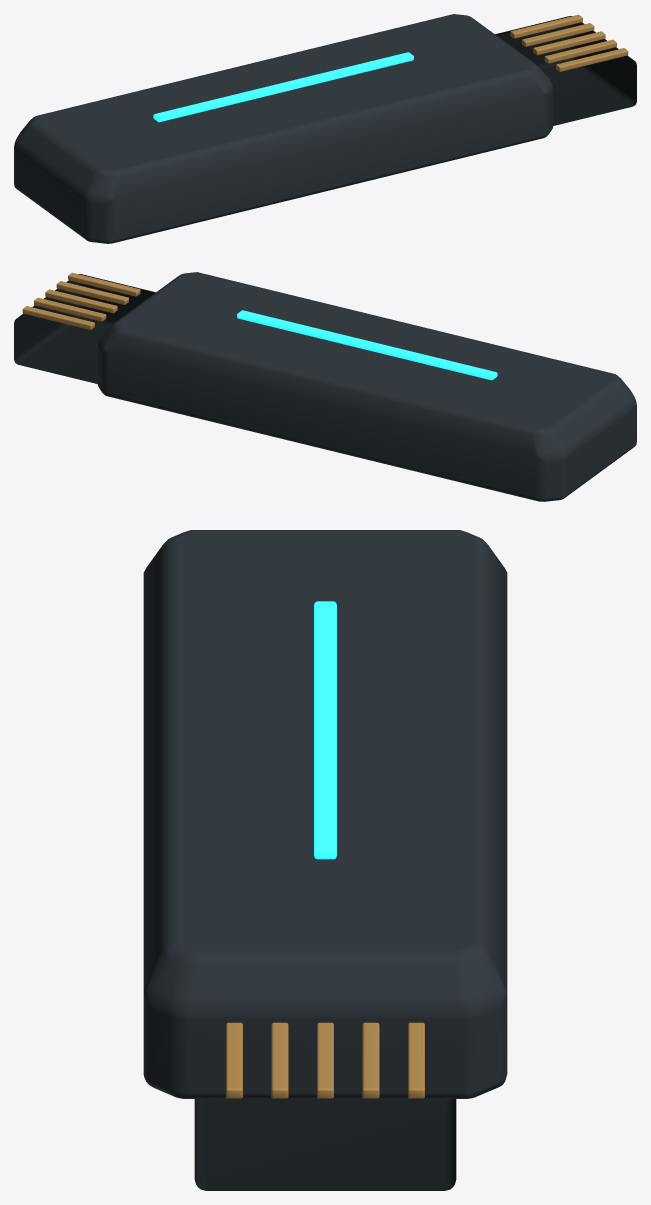
File: ZH_PROP_LAB_DataCartridge.fbx
The picture shows the model from 3 angles, top to bottom: view 1: azimuth 30°, elevation 25°; view 2: azimuth 150°, elevation 25°; view 3: azimuth 270°, elevation 25°; orthographic projection. The views are drawn at different scales.
Visible parts, largest first — view 1: Data | casing.001, Data | connector.001, Data | status.001, Data | contact.007, Data | contact.009, Data | contact.005, Data | contact.008, Data | contact.006; view 2: Data | casing.001, Data | connector.001, Data | status.001, Data | contact.007, Data | contact.005, Data | contact.008, Data | contact.006, Data | contact.009; view 3: Data | casing.001, Data | connector.001, Data | status.001, Data | contact.006, Data | contact.008, Data | contact.005, Data | contact.007, Data | contact.009.
Part boxes in pixels (<box>): Data | casing.001: <box>14,14,553,243</box>; Data | connector.001: <box>495,16,636,125</box>; Data | status.001: <box>153,52,413,122</box>; Data | contact.007: <box>533,31,605,55</box>; Data | contact.009: <box>510,14,582,38</box>; Data | contact.005: <box>556,48,628,71</box>; Data | contact.008: <box>522,23,594,46</box>; Data | contact.006: <box>544,39,616,63</box>; Data | casing.001: <box>97,272,636,501</box>; Data | connector.001: <box>14,274,155,383</box>; Data | status.001: <box>237,310,497,380</box>; Data | contact.007: <box>45,289,117,313</box>; Data | contact.005: <box>68,272,140,296</box>; Data | contact.008: <box>34,297,106,321</box>; Data | contact.006: <box>56,281,128,304</box>; Data | contact.009: <box>22,306,94,329</box>; Data | casing.001: <box>143,530,507,1098</box>; Data | connector.001: <box>194,1097,456,1190</box>; Data | status.001: <box>314,601,336,859</box>; Data | contact.006: <box>271,1022,288,1098</box>; Data | contact.008: <box>362,1022,379,1098</box>; Data | contact.005: <box>226,1022,242,1098</box>; Data | contact.007: <box>317,1022,333,1098</box>; Data | contact.009: <box>408,1022,424,1098</box>.
Bounding box in the file's own units: 0.113 × 0.015 × 0.032.
